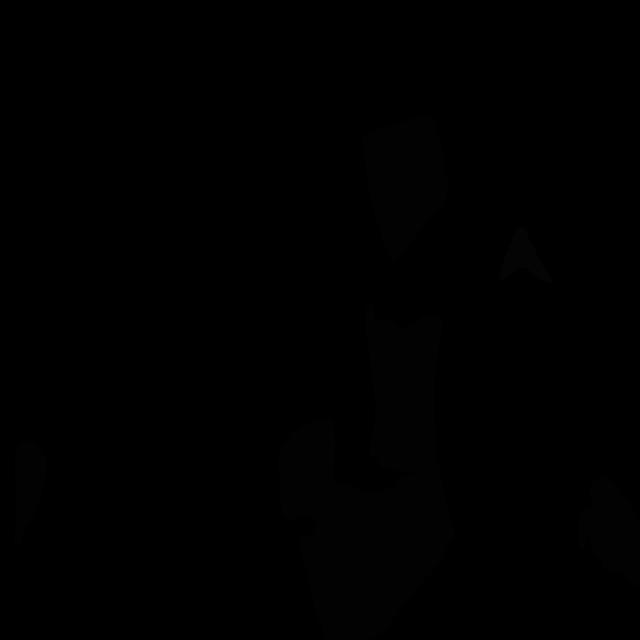cardboard: (278, 417, 456, 640), (364, 305, 444, 473), (362, 114, 448, 262), (578, 477, 640, 588), (14, 441, 47, 551)
soft_plastic: (500, 227, 552, 285)
